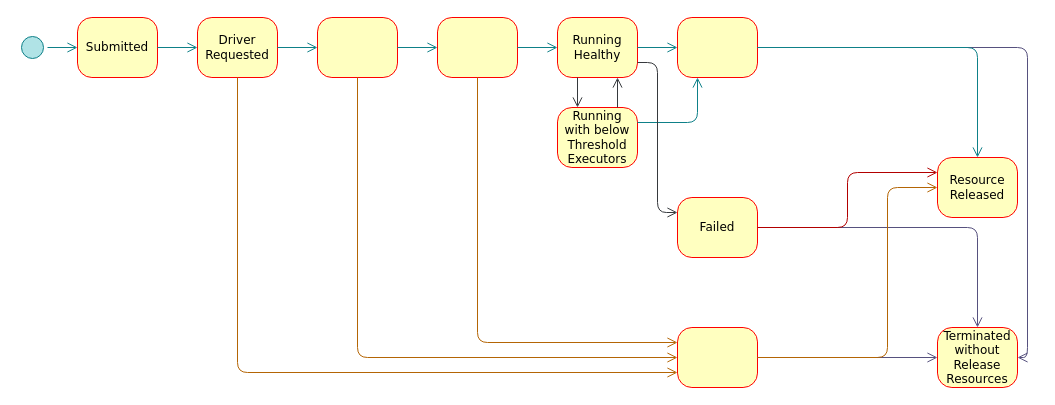
This 1055x405 diagram has some shape labels left out. The centre of each missing label's shape, as x and y in pixels:
"Driver Ready" goes at pixel 357 47.
"Initialized with below Threshold Executors" goes at pixel 477 47.
"Succeeded" goes at pixel 717 47.
"Timed out" goes at pixel 717 357.
